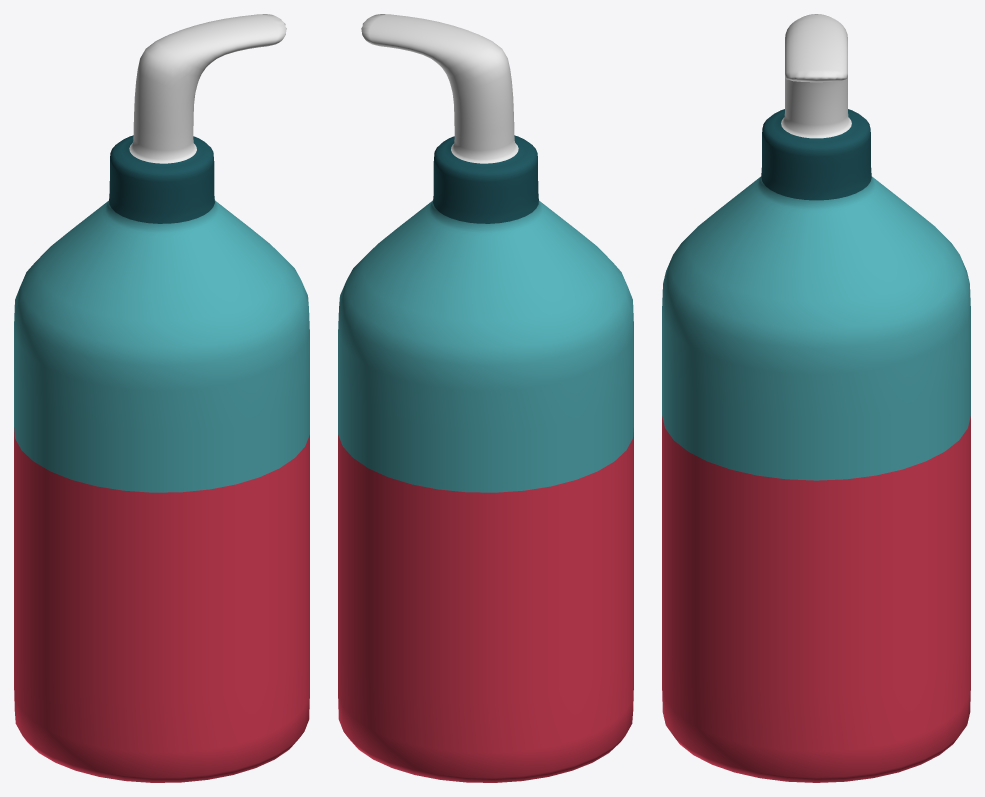
The model's file is Sampo.fbx.
3 views of the same model, side by side, from view 1: azimuth 30°, elevation 25°; view 2: azimuth 150°, elevation 25°; view 3: azimuth 270°, elevation 25° (orthographic). The views are drawn at different scales.
Parts seen in each view (by area): view 1: Sampoo; view 2: Sampoo; view 3: Sampoo.
Boxes of the visible parts, x1,y1,x2,y2 form: Sampoo: (14,14,309,782); Sampoo: (338,14,633,782); Sampoo: (662,14,970,782).
Size of the model in its own units: 20.28 by 51.63 by 20.28.
